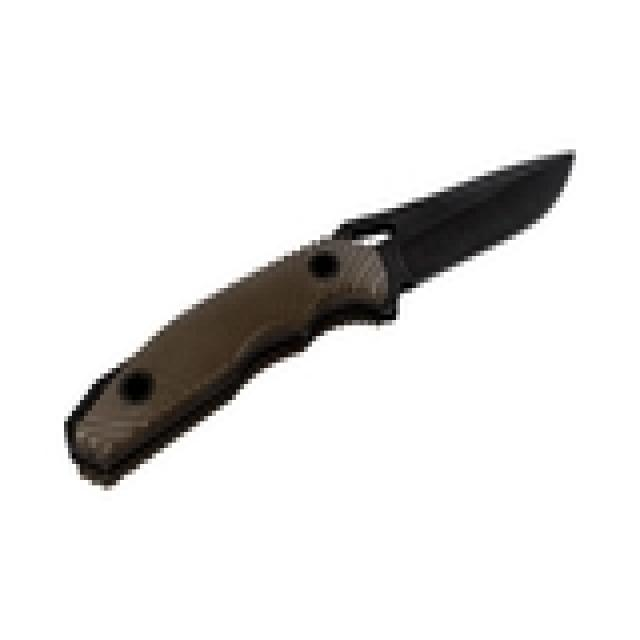Knife: (49, 147, 584, 500)
